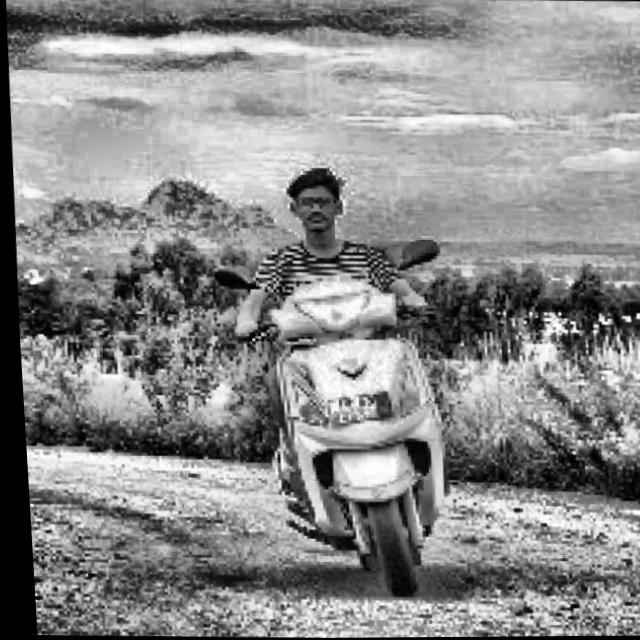motorcycle: (194, 231, 484, 598)
